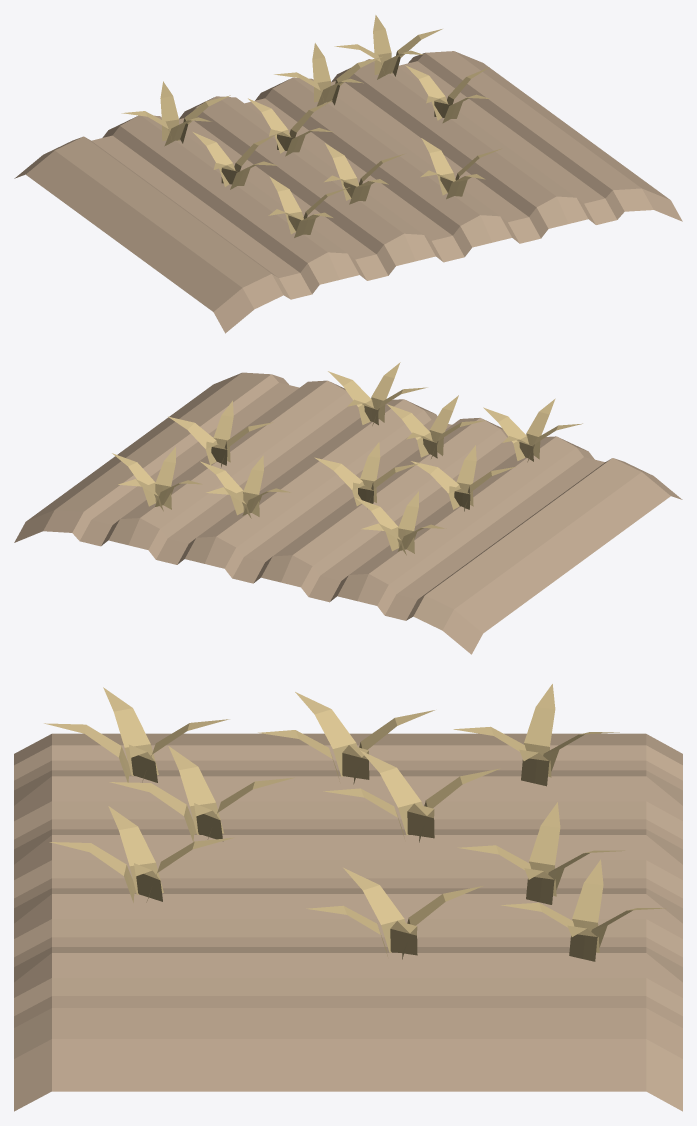
File: ER_Asset_Farm03.fbx
The picture shows the model from 3 angles, top to bottom: view 1: azimuth 30°, elevation 25°; view 2: azimuth 150°, elevation 25°; view 3: azimuth 270°, elevation 25°; orthographic projection. The views are drawn at different scales.
Parts seen in each view (by area): view 1: pPlane16; view 2: pPlane16; view 3: pPlane16.
Part boxes in pixels (bbox=[...]): pPlane16: bbox=[14, 15, 682, 333]; pPlane16: bbox=[14, 362, 682, 654]; pPlane16: bbox=[14, 684, 682, 1111].
Size of the model in its own units: 5 by 0.8352 by 4.
